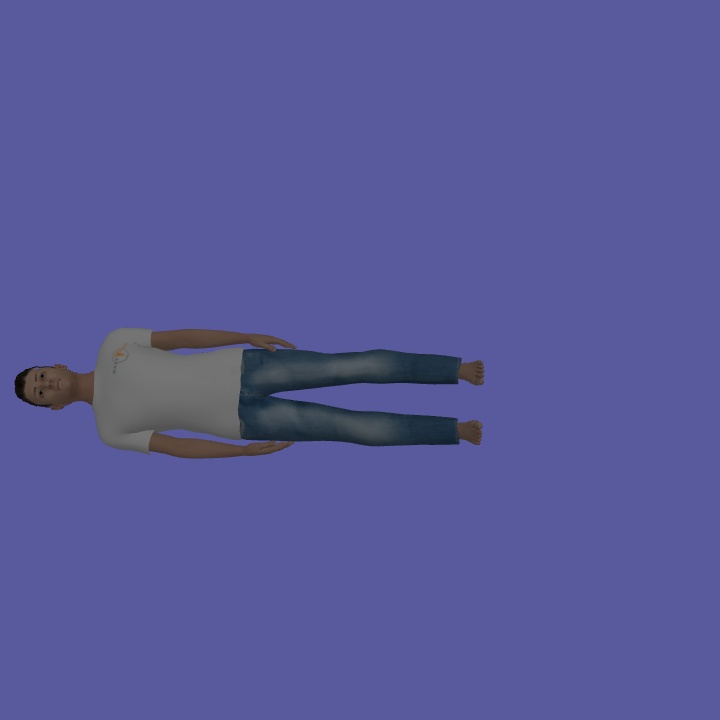victim: (11, 321, 485, 463)
